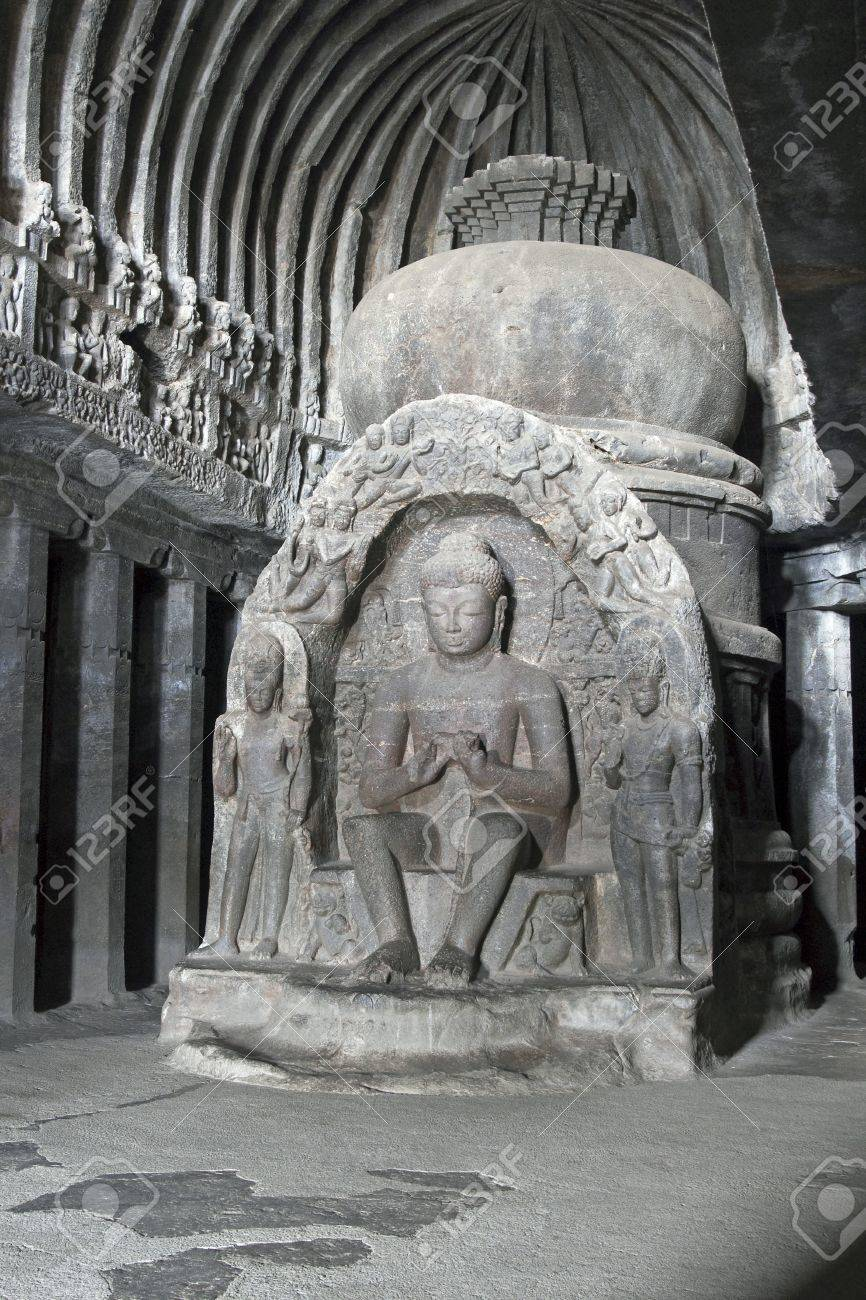Figure of Buddha, Ellora: (5, 11, 845, 1278)
